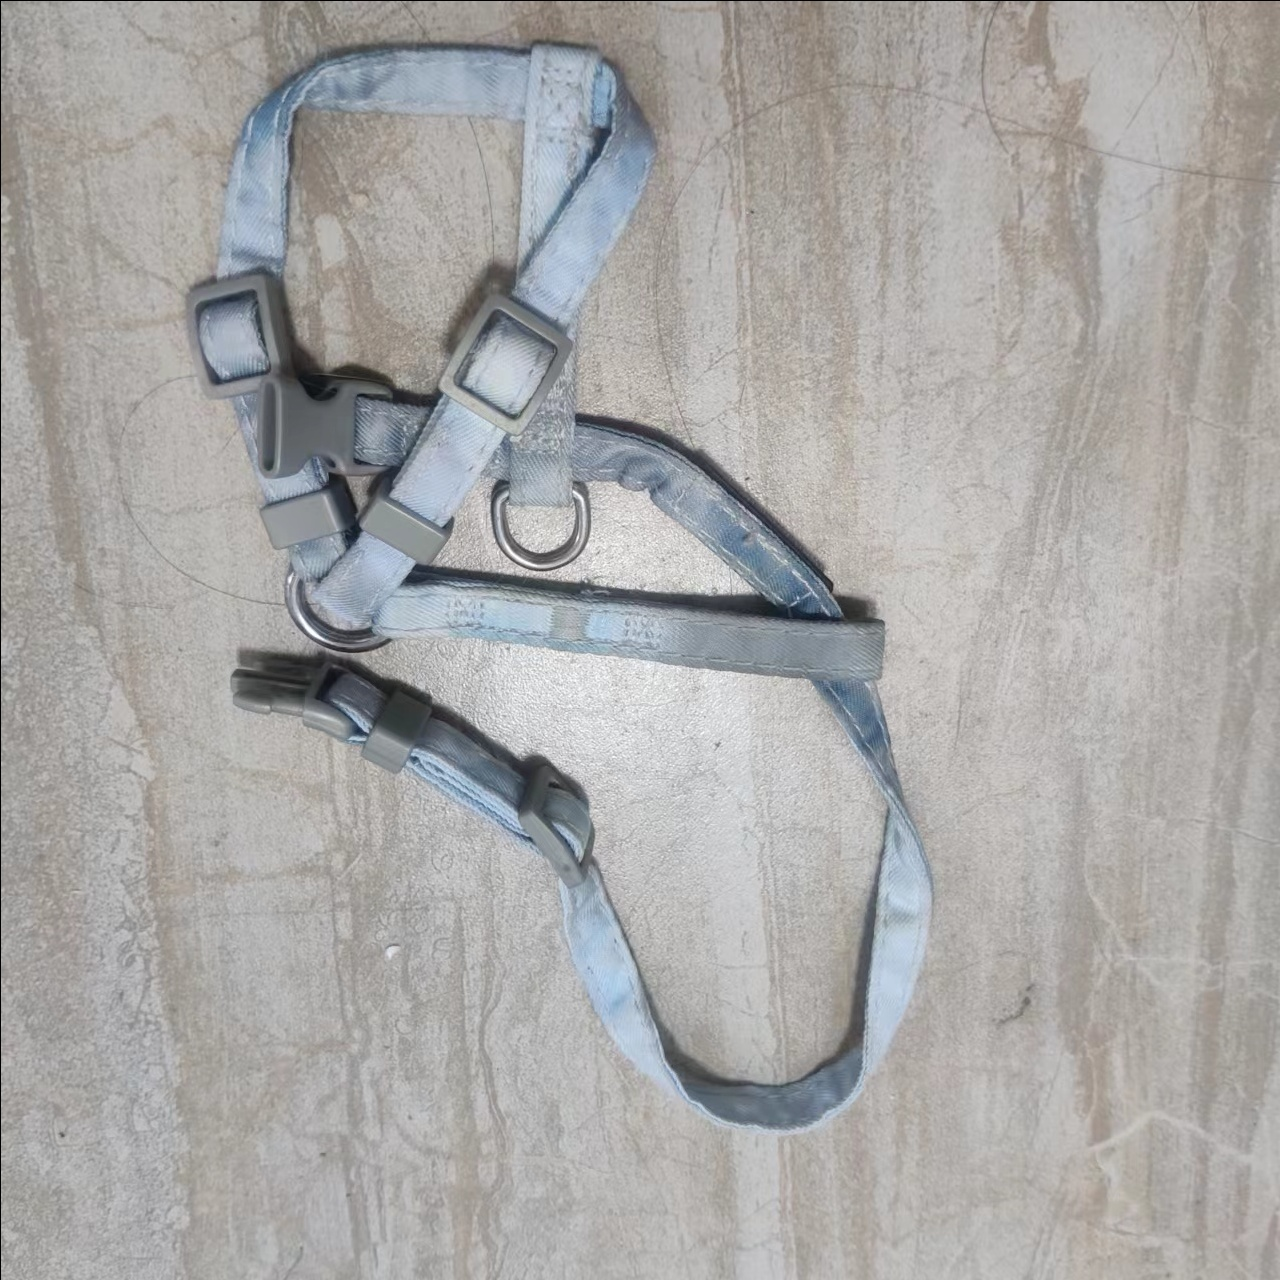9/可回收垃圾/绳子: (184, 40, 933, 1136)
